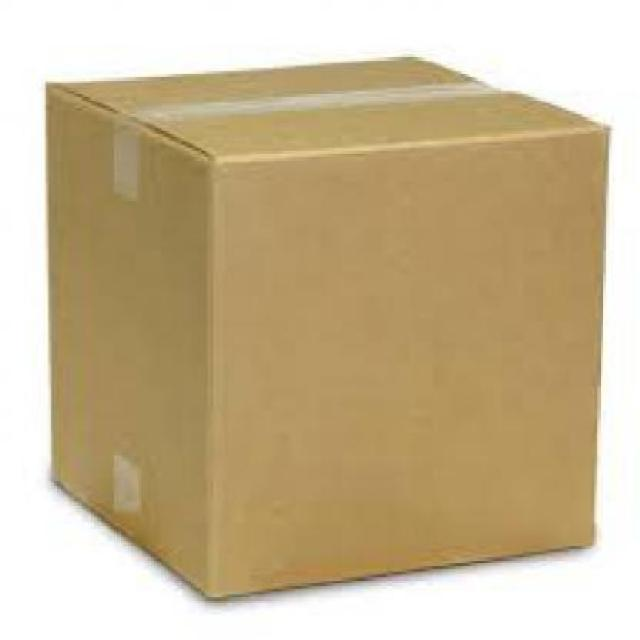box: (40, 52, 606, 596)
